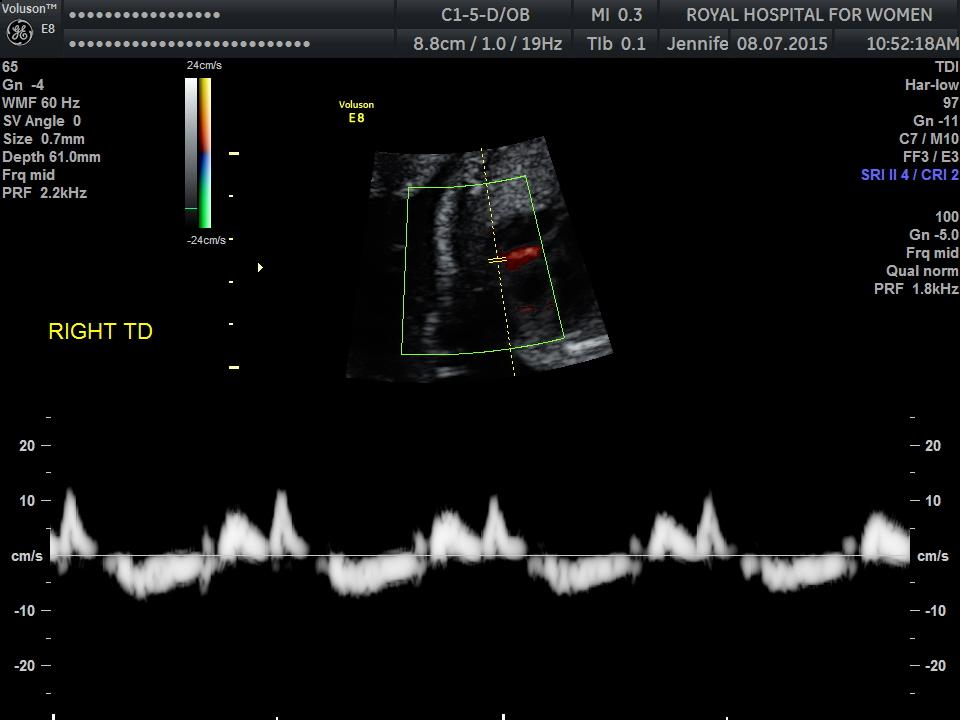Ultrasound-Waves: (51, 417, 909, 720)
